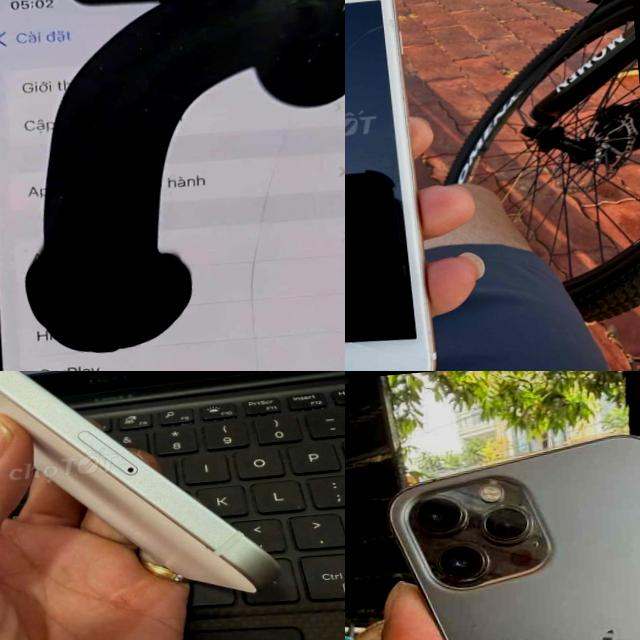gen_11: (0, 0, 345, 371)
gen_12_13: (375, 419, 640, 640)
gen_15: (0, 371, 295, 640)
gen_6: (345, 0, 434, 371)
physical_damage: (265, 42, 345, 129), (250, 130, 309, 190), (228, 310, 286, 366), (238, 188, 282, 258), (282, 0, 345, 47), (232, 261, 281, 313), (0, 0, 28, 37)
screen_defect: (210, 0, 345, 116), (102, 20, 192, 136), (141, 0, 221, 102), (45, 28, 114, 142), (107, 126, 209, 201), (61, 206, 128, 312), (50, 297, 146, 368), (114, 272, 206, 341), (108, 196, 180, 280), (41, 142, 108, 225), (15, 256, 60, 346), (33, 227, 86, 291), (345, 22, 391, 61)
